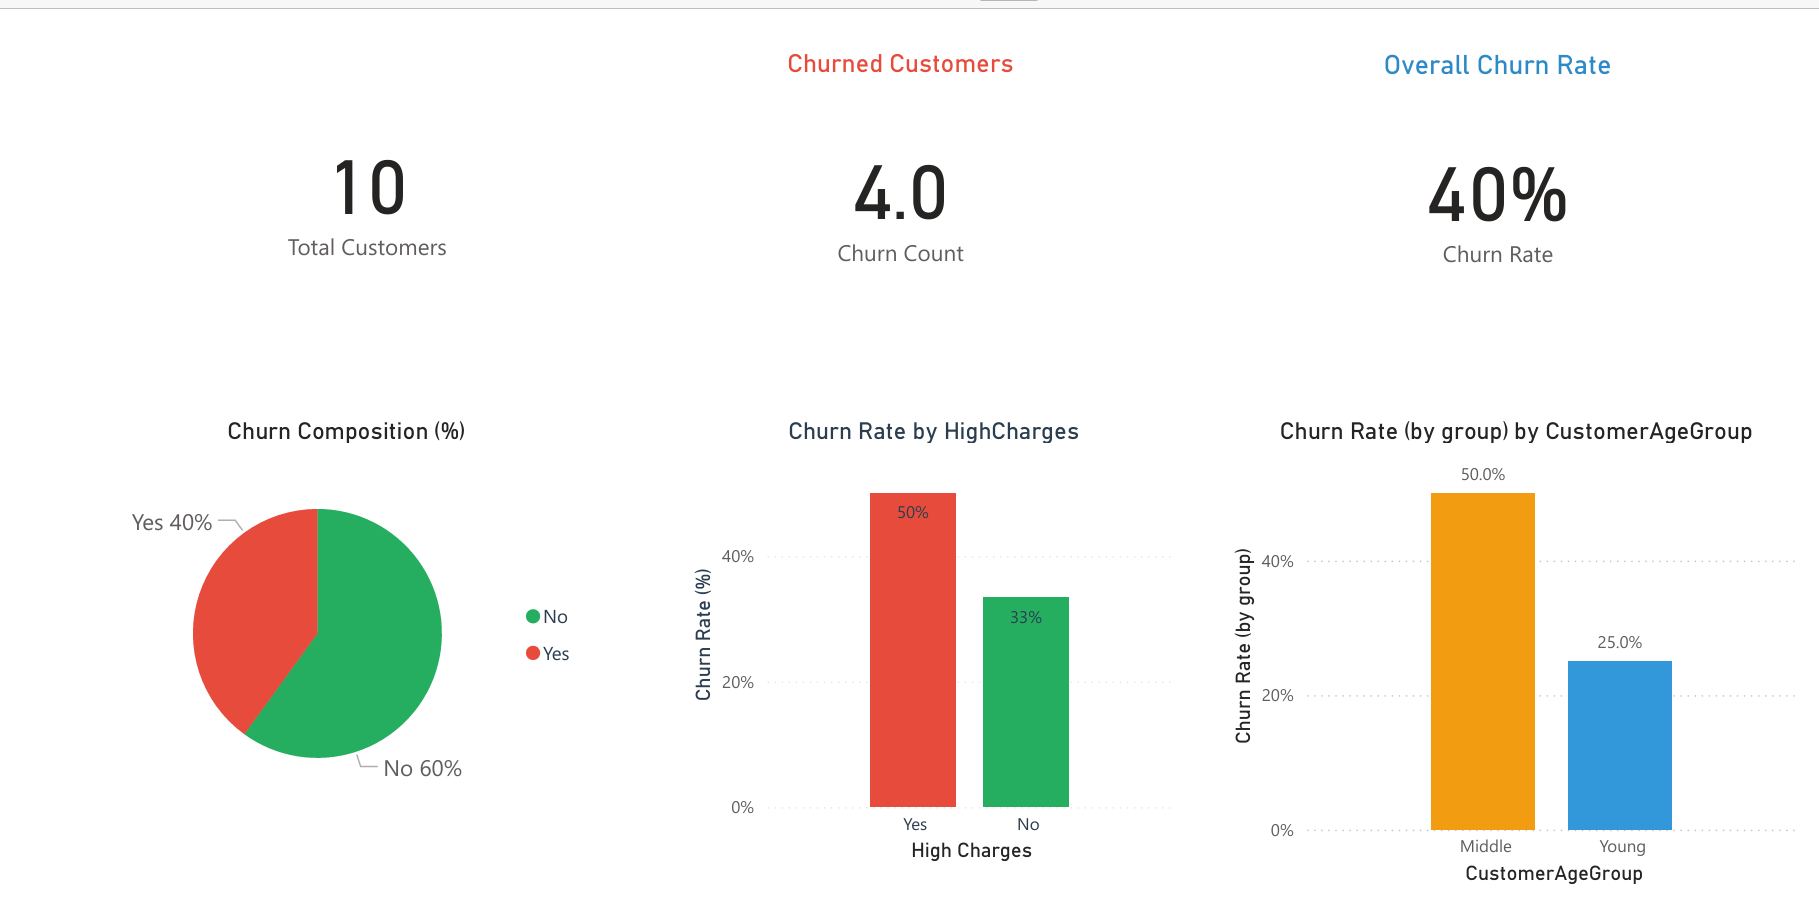

This screenshot's page, from the dashboard's own definition file:
{"tool":"powerbi","page":{"name":"Page 1","canvas":[1280,720],"ordinal":0},"visuals":[{"type":"card","fields":{"Values":["cleaned_customer_data.Total Customers"]},"box":[27.3,113.6,420.9,218],"z":0},{"type":"pieChart","title":"Churn Composition (%)","fields":{"Category":["cleaned_customer_data.Churn"],"Y":["CountNonNull(cleaned_customer_data.CustomerID)"]},"box":[50,381.6,345.2,290.7],"z":1000},{"type":"clusteredColumnChart","fields":{"Category":["cleaned_customer_data.CustomerAgeGroup"],"Y":["cleaned_customer_data.Churn Rate (by group)"]},"box":[846.4,381.6,413.4,337.7],"z":2000},{"type":"clusteredColumnChart","fields":{"Category":["cleaned_customer_data.HighCharges"],"Y":["cleaned_customer_data.Churn Rate"]},"box":[463.3,381.6,352.8,321],"z":3000},{"type":"textbox","box":[0,0,1279.5,66.6],"z":4000},{"type":"textbox","box":[99.9,53,1096.3,50],"z":5000},{"type":"card","title":"Churned Customers","fields":{"Values":["cleaned_customer_data.Churn Count"]},"box":[448.2,121.1,336.2,192.3],"z":6000},{"type":"card","title":"Overall Churn Rate","fields":{"Values":["cleaned_customer_data.Churn Rate"]},"box":[884.3,121.1,311.9,192.3],"z":7000}]}

Visuals, with their boxes on the page's 1280x720 design canvas (x1, y1, x2, y2). These are canvas units, not pixel positions in the 1819x922 screenshot, which may show the page scaled, cropped or inside an application window:
card - cleaned_customer_data.Total Customers: 27:114:448:332
"Churn Composition (%)" pieChart: 50:382:395:672
clusteredColumnChart - cleaned_customer_data.CustomerAgeGroup x cleaned_customer_data.Churn Rate (by group): 846:382:1260:719
clusteredColumnChart - cleaned_customer_data.HighCharges x cleaned_customer_data.Churn Rate: 463:382:816:703
textbox: 0:0:1280:67
textbox: 100:53:1196:103
"Churned Customers" card: 448:121:784:313
"Overall Churn Rate" card: 884:121:1196:313
